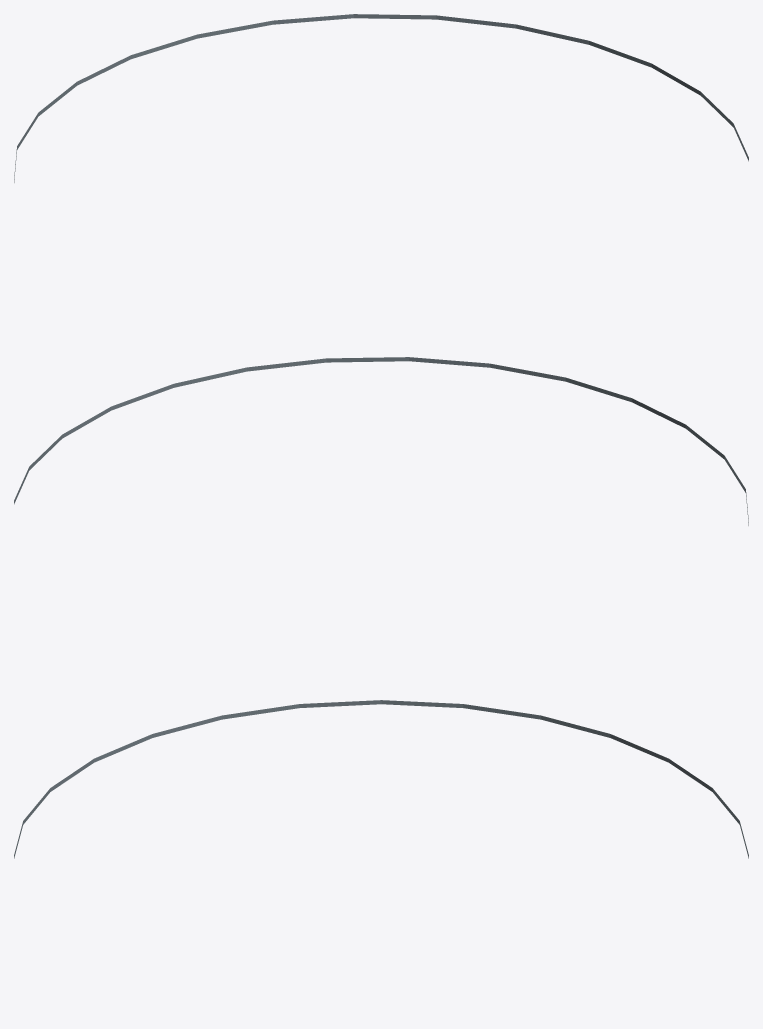
The model's file is dome_shell.glb.
The picture shows the model from 3 angles, top to bottom: view 1: azimuth 30°, elevation 25°; view 2: azimuth 150°, elevation 25°; view 3: azimuth 270°, elevation 25°; orthographic projection.
Visible parts, largest first — view 1: VH_DomeShell; view 2: VH_DomeShell; view 3: VH_DomeShell.
Part boxes in pixels (x1=…): VH_DomeShell: x1=14, y1=14, x2=748, y2=182; VH_DomeShell: x1=14, y1=357, x2=748, y2=525; VH_DomeShell: x1=14, y1=700, x2=748, y2=858.
Bounding box in the file's own units: 80.2 × 0.5 × 80.2.
